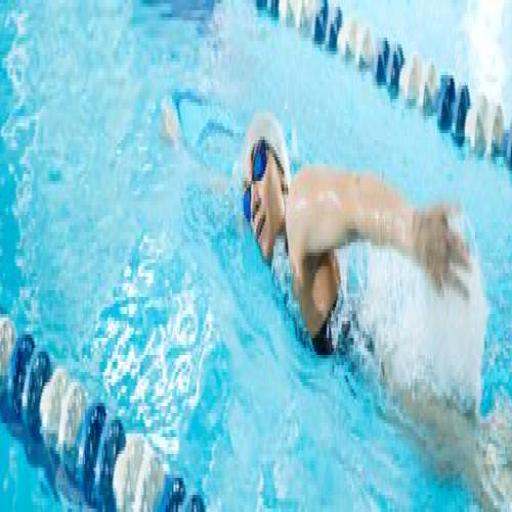swimming: (214, 69, 475, 449)
